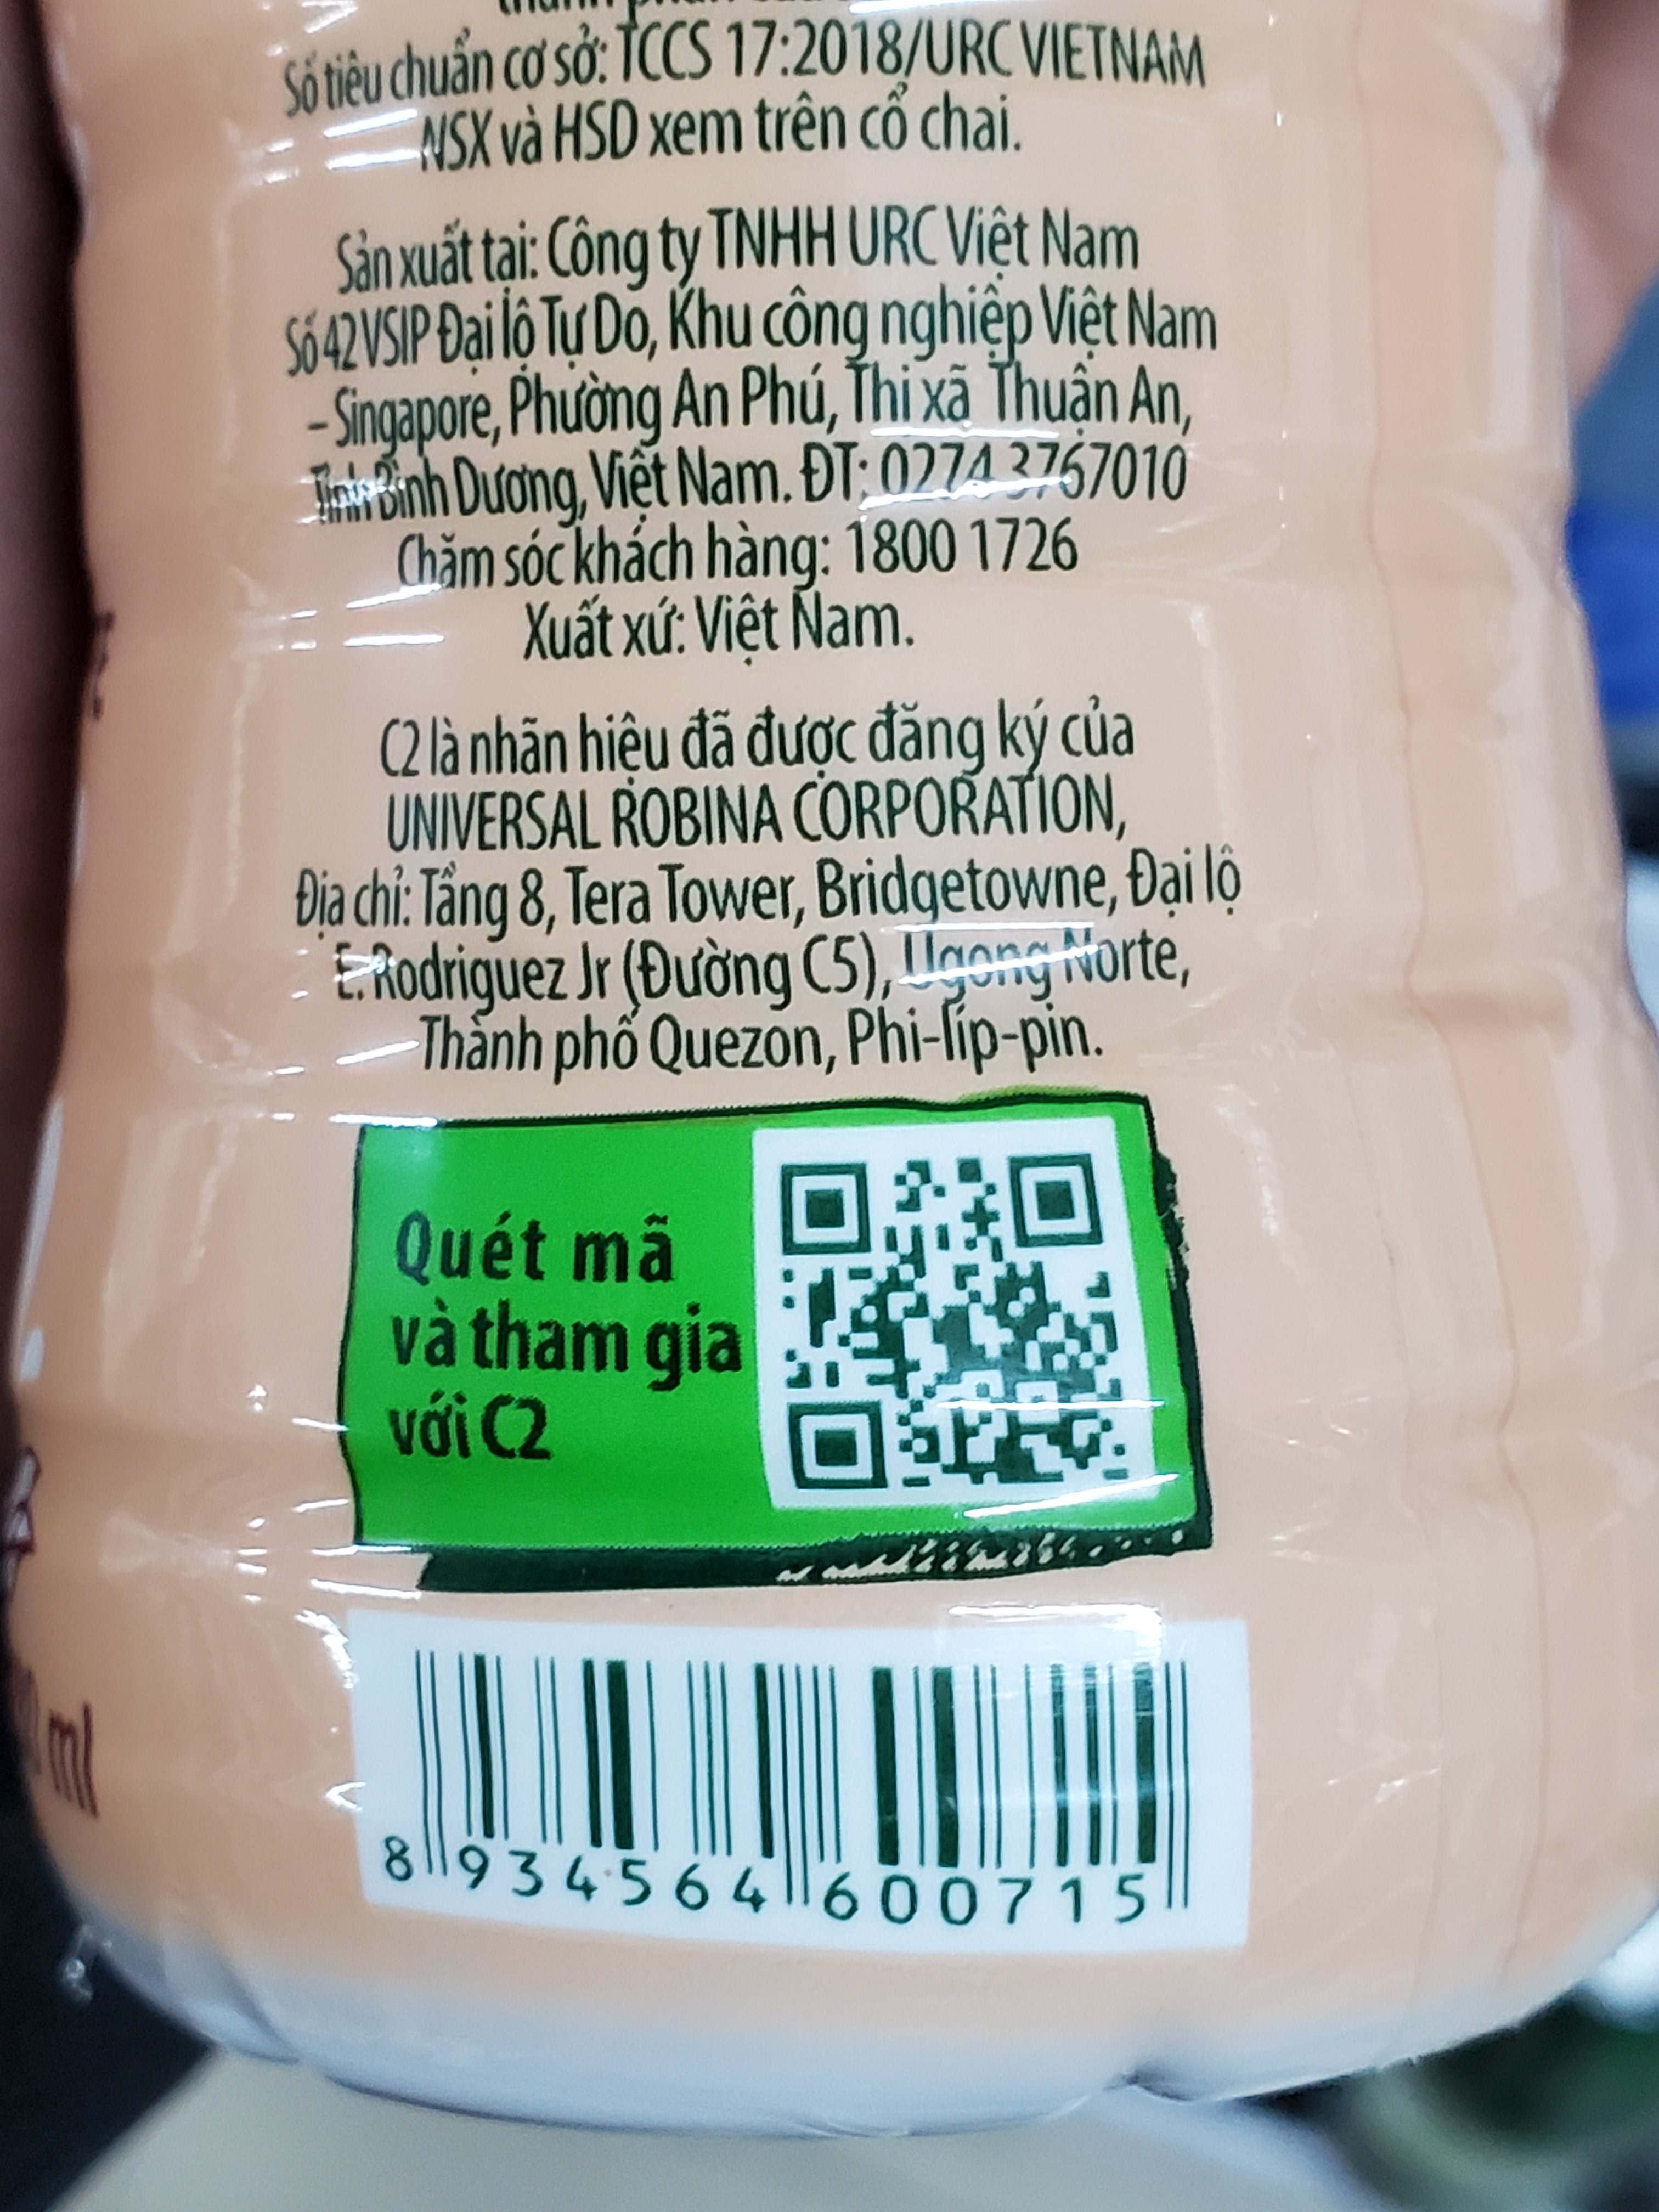barcode: (328, 1620, 1237, 1961)
qr code: (723, 1115, 1173, 1512)
